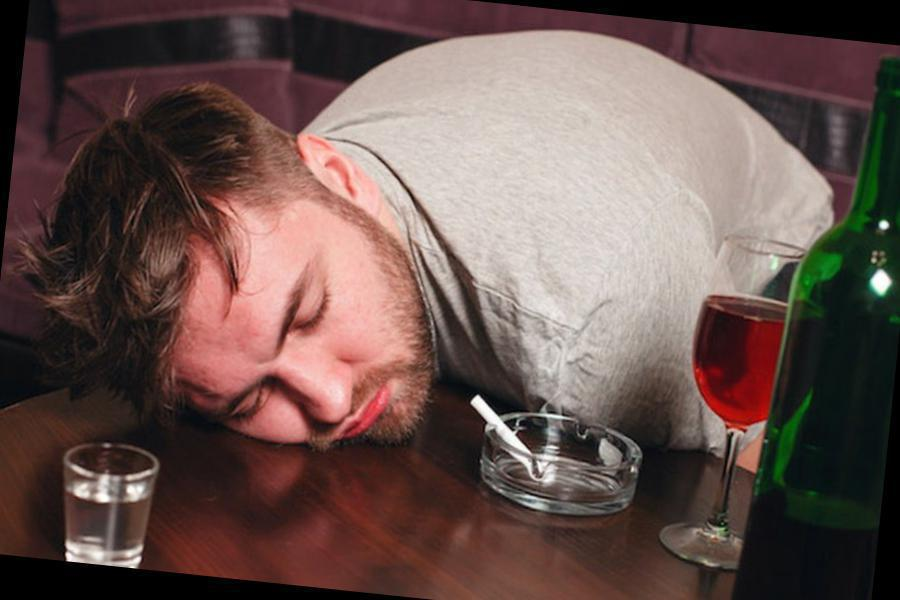Drunk: (180, 209, 412, 456)
